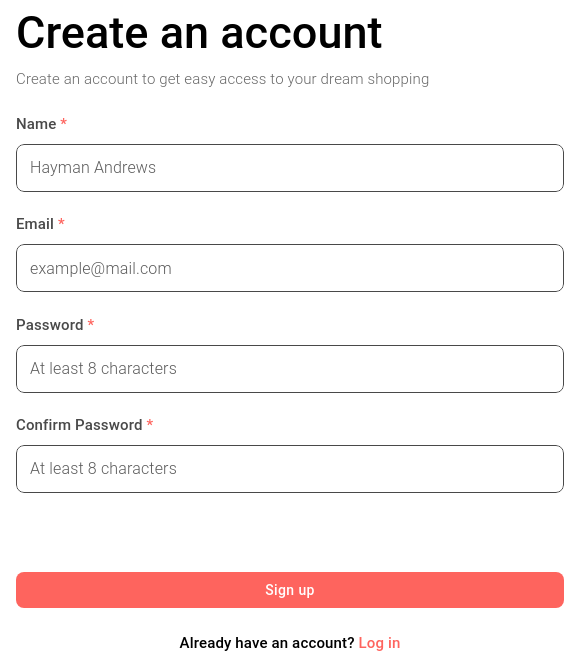
it: SignUp Page › shows validation error for invalid name
This screenshot has width=581, height=668.
Type "Ed" into the field labelled "Name".
click(290, 168); type("Ed")  # box [16,140,564,196]
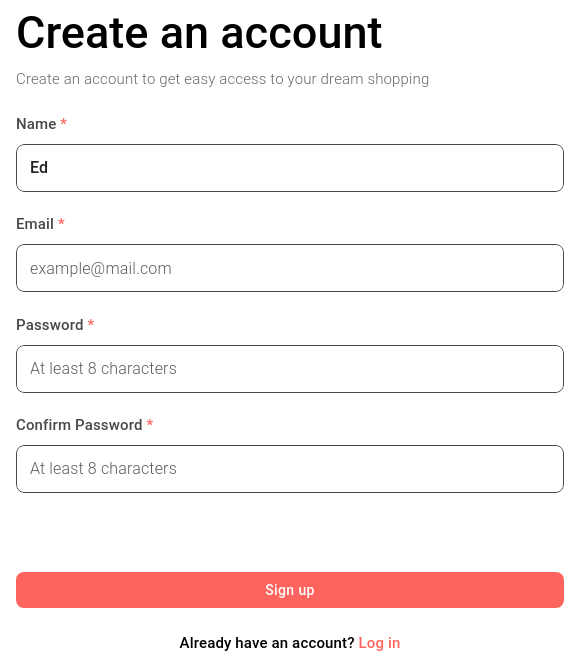
Click the button "Sign up".
click(290, 590)  # box [16,572,564,608]
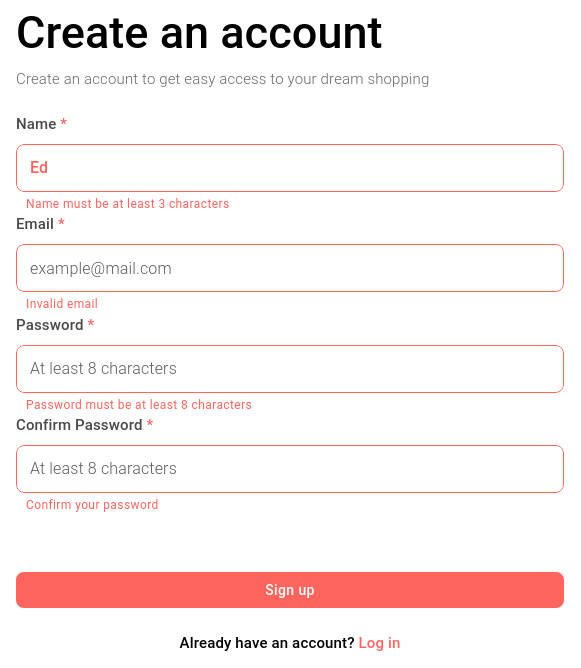
Expected: the text "Name must be at least 3 characters" is shown, [26,197,230,211]
